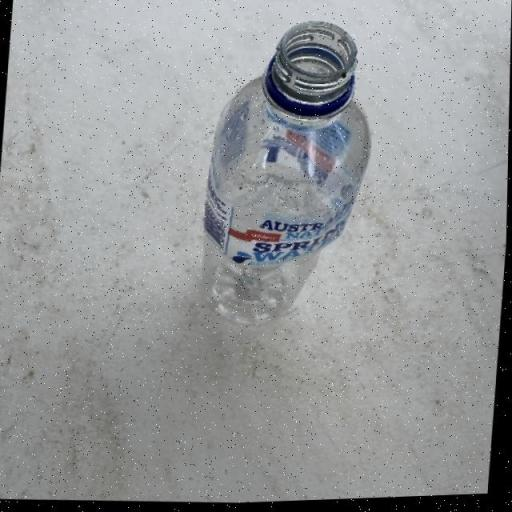plastic: (195, 14, 381, 334)
